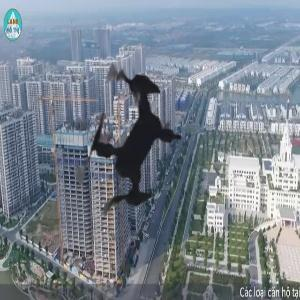drone: (19, 33, 249, 263)
